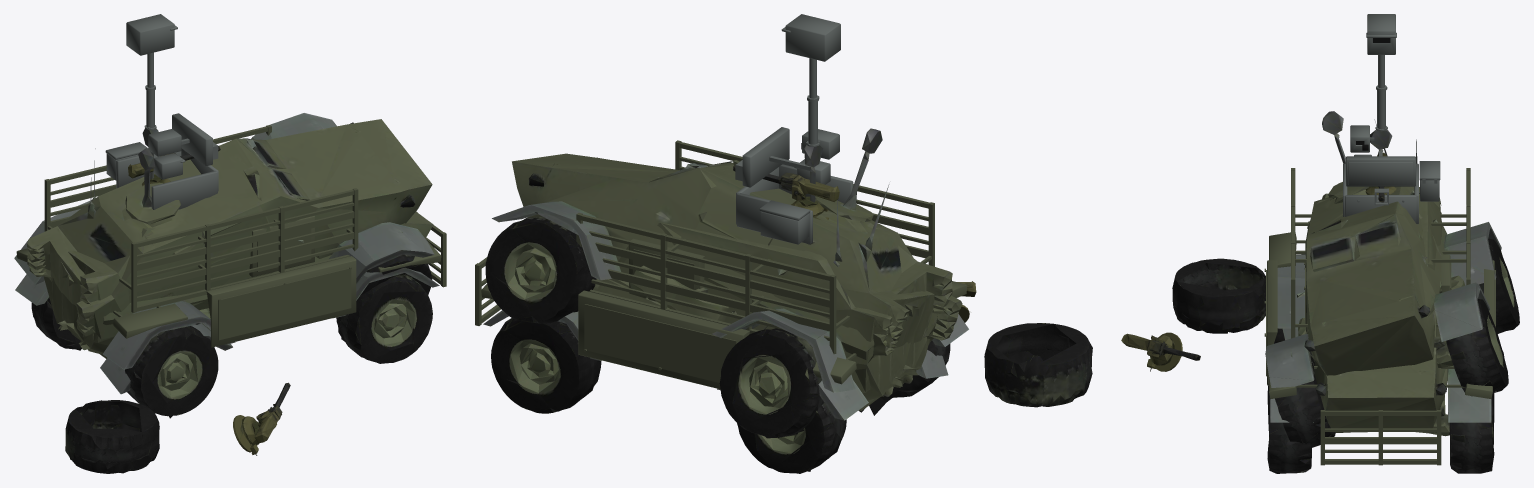
The model's file is scout_shachaf.glb.
3 renders of one model, left to right at view 1: azimuth 30°, elevation 25°; view 2: azimuth 150°, elevation 25°; view 3: azimuth 270°, elevation 25°, orthographic. The views are drawn at different scales.
Visible parts, largest first — view 1: WRECK_hull_hull, hull_rubber, kit_armour_2_hull_hull, WRECK_hull_rubber, hull_hull, kit_armour_3_hull_hull, kit_armour_3_hull_hull_near, kit_armour_3_hull_hull_far, kit_firepower_3_turret_metal, kit_sensors_3_hull_hull, kit_armour_1_hull_hull, kit_sensors_2_hull_hull (+5 smaller); view 2: WRECK_hull_hull, WRECK_hull_rubber, hull_hull, hull_rubber, kit_armour_2_hull_hull, kit_armour_3_hull_hull, kit_armour_3_hull_hull_near, kit_armour_3_hull_hull_far, kit_sensors_3_hull_hull, kit_firepower_3_turret_metal, kit_firepower_2_turret_metal, kit_sensors_2_hull_hull (+3 smaller); view 3: WRECK_hull_hull, WRECK_hull_rubber, hull_hull, hull_rubber, kit_armour_3_hull_hull, kit_armour_2_hull_hull, kit_sensors_2_hull_hull, kit_sensors_3_hull_hull, kit_firepower_3_turret_metal, WRECK_turret_metal, kit_armour_3_hull_hull_near, kit_firepower_2_turret_metal (+3 smaller).
Boxes of the visible parts, x1,y1,x2,y2 form: WRECK_hull_hull: (14,119,434,394); hull_rubber: (31,267,432,416); kit_armour_2_hull_hull: (16,242,441,347); WRECK_hull_rubber: (22,113,432,473); hull_hull: (15,128,439,369); kit_armour_3_hull_hull: (44,125,446,312); kit_armour_3_hull_hull_near: (50,177,440,300); kit_armour_3_hull_hull_far: (50,184,440,291); kit_firepower_3_turret_metal: (116,148,218,209); kit_sensors_3_hull_hull: (126,14,177,129); kit_armour_1_hull_hull: (249,216,314,277); kit_sensors_2_hull_hull: (172,113,212,166); WRECK_hull_hull: (492,128,962,396); WRECK_hull_rubber: (485,201,1092,438); hull_hull: (491,145,968,420); hull_rubber: (483,310,950,473); kit_armour_2_hull_hull: (481,281,967,389); kit_armour_3_hull_hull: (475,140,934,354); kit_armour_3_hull_hull_near: (481,157,928,340); kit_armour_3_hull_hull_far: (481,166,928,331); kit_sensors_3_hull_hull: (781,14,840,146); kit_firepower_3_turret_metal: (736,164,853,244); kit_firepower_2_turret_metal: (735,160,810,244); kit_sensors_2_hull_hull: (742,127,810,187); WRECK_hull_hull: (1269,111,1503,447); WRECK_hull_rubber: (1172,222,1519,443); hull_hull: (1270,129,1490,473); hull_rubber: (1267,255,1494,473); kit_armour_3_hull_hull: (1291,168,1470,465); kit_armour_2_hull_hull: (1264,232,1495,399); kit_sensors_2_hull_hull: (1346,150,1415,186); kit_sensors_3_hull_hull: (1366,14,1396,131); kit_firepower_3_turret_metal: (1343,163,1418,224); WRECK_turret_metal: (1143,332,1200,371); kit_armour_3_hull_hull_near: (1325,428,1436,452); kit_firepower_2_turret_metal: (1374,161,1440,205).
Bounding box in the file's own units: 5.56 × 4.57 × 4.46.
1 material, 1 textured.
